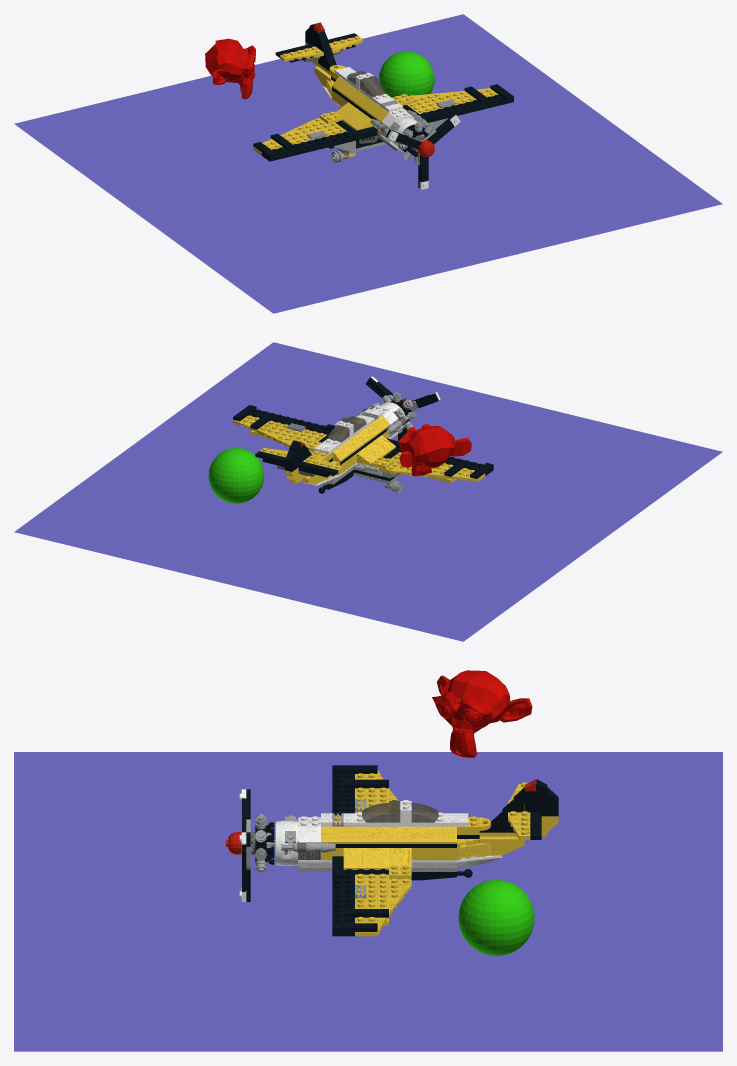
Rendered from spitfire_company.obj.
The picture shows the model from 3 angles, top to bottom: view 1: azimuth 30°, elevation 25°; view 2: azimuth 150°, elevation 25°; view 3: azimuth 270°, elevation 25°; orthographic projection. The views are drawn at different scales.
Visible parts, largest first — view 1: Plane_planeMat, spitfire_ldraw_0, spitfire_ldraw_14, Suzanne_suzanneMat, Sphere_sphereMat, spitfire_ldraw_71, spitfire_ldraw_15, spitfire_ldraw_40; view 2: Plane_planeMat, spitfire_ldraw_14, spitfire_ldraw_0, Sphere_sphereMat, Suzanne_suzanneMat, spitfire_ldraw_71, spitfire_ldraw_15, spitfire_ldraw_40; view 3: Plane_planeMat, spitfire_ldraw_14, spitfire_ldraw_0, Suzanne_suzanneMat, Sphere_sphereMat, spitfire_ldraw_15, spitfire_ldraw_71, spitfire_ldraw_40.
Boxes of the visible parts, x1,y1,x2,y2 form: Plane_planeMat: [14, 14, 722, 313]; spitfire_ldraw_0: [253, 23, 513, 188]; spitfire_ldraw_14: [253, 36, 498, 155]; Suzanne_suzanneMat: [205, 38, 255, 99]; Sphere_sphereMat: [379, 51, 434, 97]; spitfire_ldraw_71: [307, 99, 455, 163]; spitfire_ldraw_15: [322, 67, 460, 189]; spitfire_ldraw_40: [347, 71, 386, 97]; Plane_planeMat: [14, 342, 722, 641]; spitfire_ldraw_14: [233, 415, 485, 484]; spitfire_ldraw_0: [233, 377, 493, 493]; Sphere_sphereMat: [208, 448, 264, 503]; Suzanne_suzanneMat: [398, 424, 471, 476]; spitfire_ldraw_71: [287, 392, 418, 492]; spitfire_ldraw_15: [302, 376, 440, 486]; spitfire_ldraw_40: [327, 416, 366, 442]; Plane_planeMat: [14, 752, 722, 1051]; spitfire_ldraw_14: [321, 770, 558, 936]; spitfire_ldraw_0: [242, 765, 558, 936]; Suzanne_suzanneMat: [432, 670, 532, 757]; Sphere_sphereMat: [458, 880, 534, 955]; spitfire_ldraw_15: [239, 789, 502, 901]; spitfire_ldraw_71: [241, 799, 456, 903]; spitfire_ldraw_40: [362, 800, 438, 822].
Size of the model in its own units: 751 by 187 by 751.
